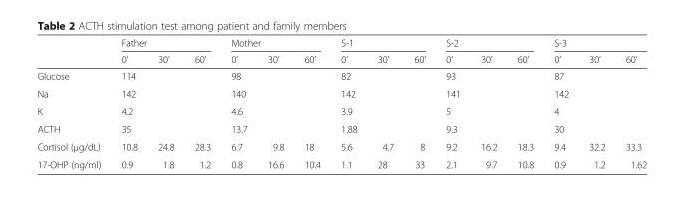table: (36, 36, 646, 169)
table column: (36, 36, 110, 169), (110, 36, 147, 169), (183, 36, 220, 169), (256, 36, 293, 169), (293, 36, 330, 169), (366, 36, 403, 169), (506, 36, 543, 169), (147, 36, 183, 169), (220, 36, 256, 169), (330, 36, 366, 169), (470, 36, 506, 169), (578, 36, 614, 169), (435, 36, 470, 169), (543, 36, 578, 169), (403, 36, 435, 169), (614, 36, 646, 169)
table column header: (36, 36, 646, 67)
table row: (36, 84, 646, 102), (36, 119, 646, 137), (36, 137, 646, 155), (36, 50, 646, 67), (36, 67, 646, 84), (36, 102, 646, 119), (36, 36, 646, 50), (36, 155, 646, 169)
table spanning cell: (110, 36, 220, 50), (220, 36, 330, 50), (435, 36, 543, 50), (330, 36, 435, 50), (543, 36, 646, 50)
